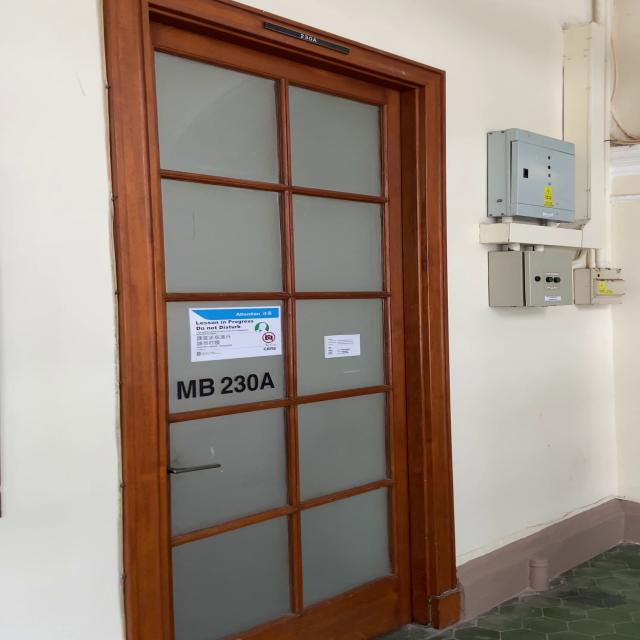room230A: (263, 21, 351, 53)
room230AWindow: (174, 370, 281, 402)
